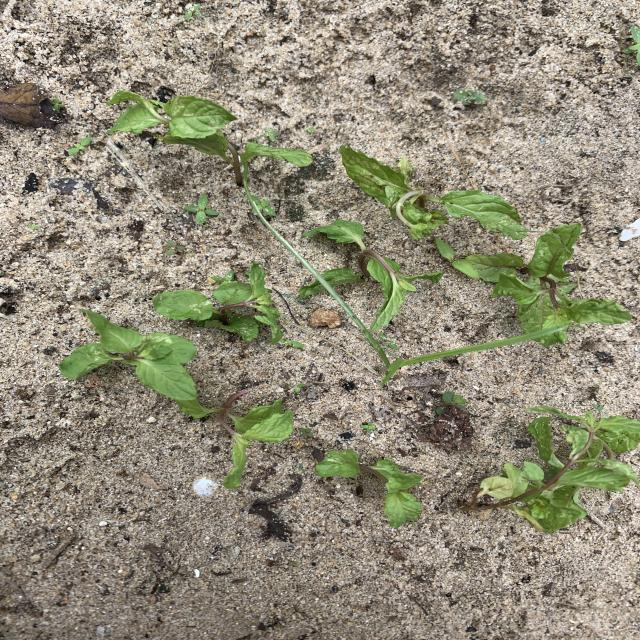crop: (467, 407, 639, 531), (468, 224, 631, 344), (108, 93, 309, 181), (341, 145, 524, 239), (304, 220, 439, 330), (60, 309, 195, 402), (179, 395, 292, 487), (153, 266, 282, 343), (316, 449, 422, 527)
weed: (258, 205, 534, 385), (435, 238, 480, 279), (186, 195, 217, 223), (438, 392, 466, 413), (624, 26, 639, 65), (249, 196, 275, 215), (453, 89, 485, 104), (68, 137, 91, 155), (212, 269, 235, 283), (275, 339, 305, 349), (165, 241, 186, 255), (184, 4, 199, 19), (299, 427, 313, 438), (52, 98, 63, 110), (263, 128, 275, 139), (361, 422, 375, 431), (294, 383, 303, 391), (27, 225, 39, 230)
